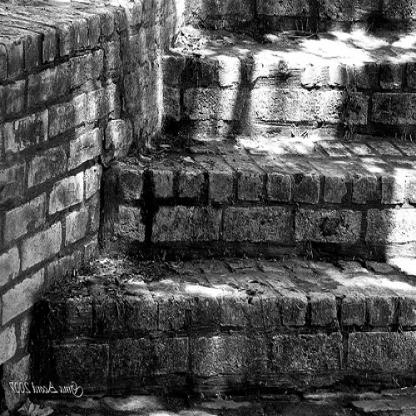stairs: (168, 33, 390, 414)
